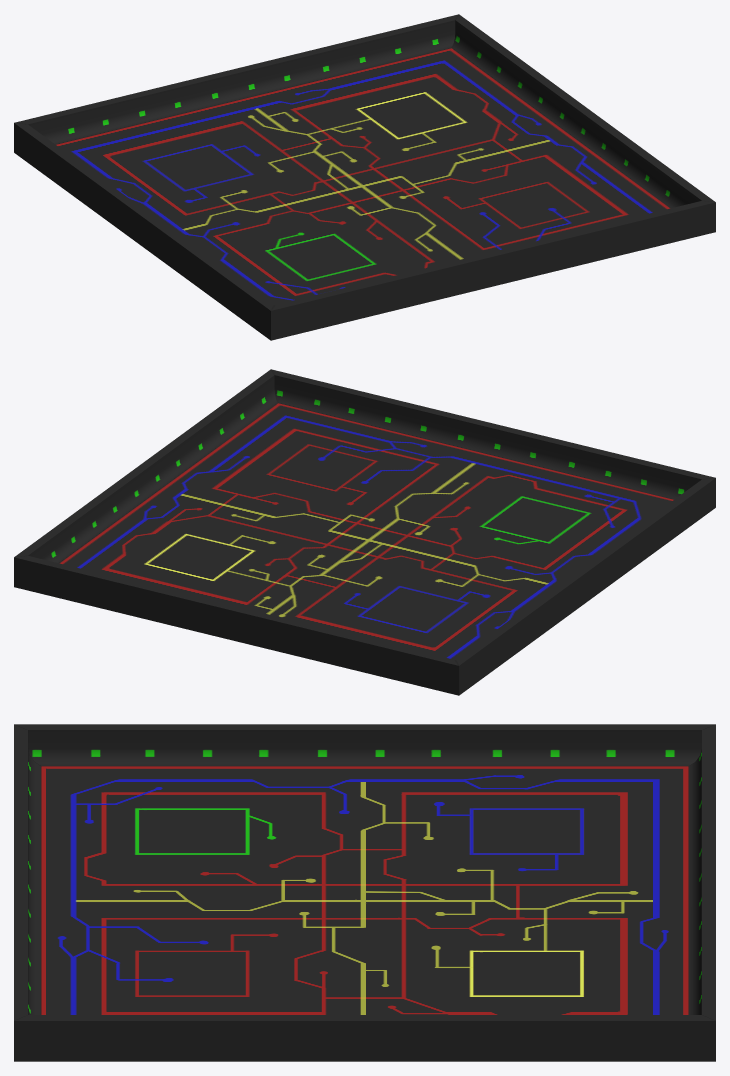
File: arena.obj
The picture shows the model from 3 angles, top to bottom: view 1: azimuth 30°, elevation 25°; view 2: azimuth 150°, elevation 25°; view 3: azimuth 270°, elevation 25°; orthographic projection. The views are drawn at different scales.
Visible parts, largest first — view 1: arena1:pCube1; view 2: arena1:pCube1; view 3: arena1:pCube1.
Boxes of the visible parts, x1,y1,x2,y2 form: arena1:pCube1: (14, 14, 715, 340); arena1:pCube1: (14, 369, 715, 695); arena1:pCube1: (14, 724, 715, 1061).
Bounding box in the file's own units: 150 × 9.61 × 150.
